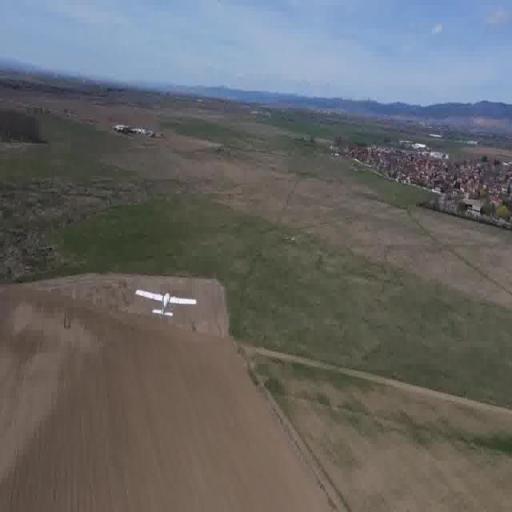uav: (134, 283, 200, 326)
